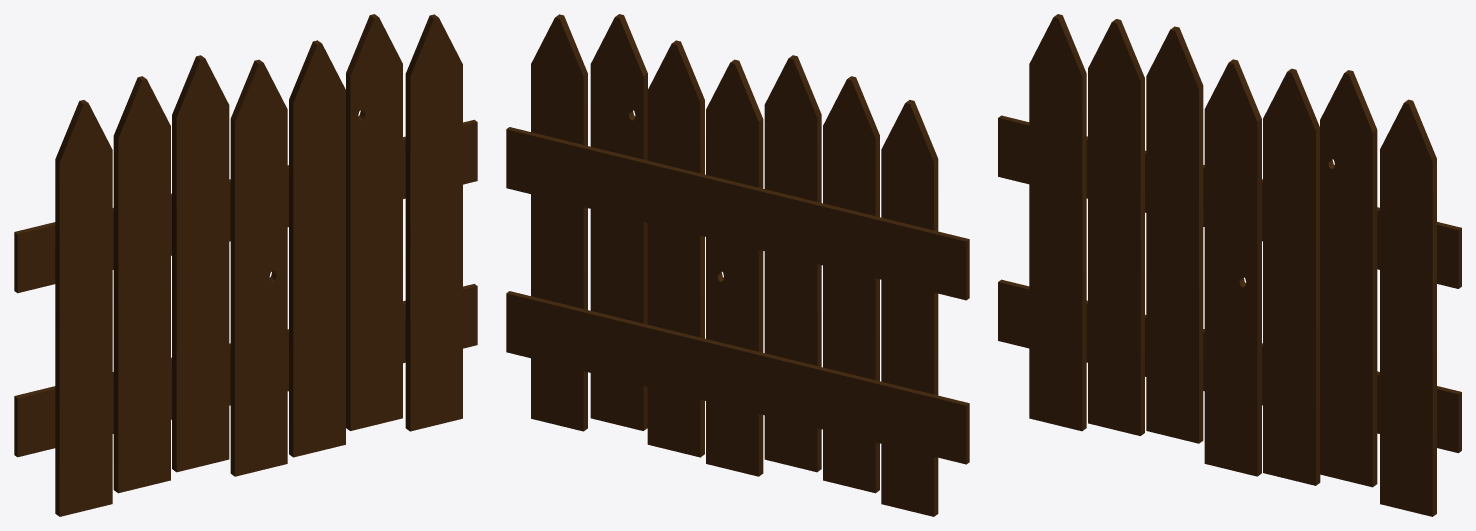
Rendered from Fence_Mid_piece.fbx.
3 views of the same model, side by side, from view 1: azimuth 30°, elevation 25°; view 2: azimuth 150°, elevation 25°; view 3: azimuth 330°, elevation 25° (orthographic).
Visible parts, largest first — view 1: Box094; view 2: Box094; view 3: Box094.
Part boxes in pixels (x1,y1,x2,y2): Box094: [14, 14, 477, 516]; Box094: [506, 14, 969, 516]; Box094: [998, 14, 1461, 516].
Bounding box in the file's own units: 106 × 93.68 × 3.5.
